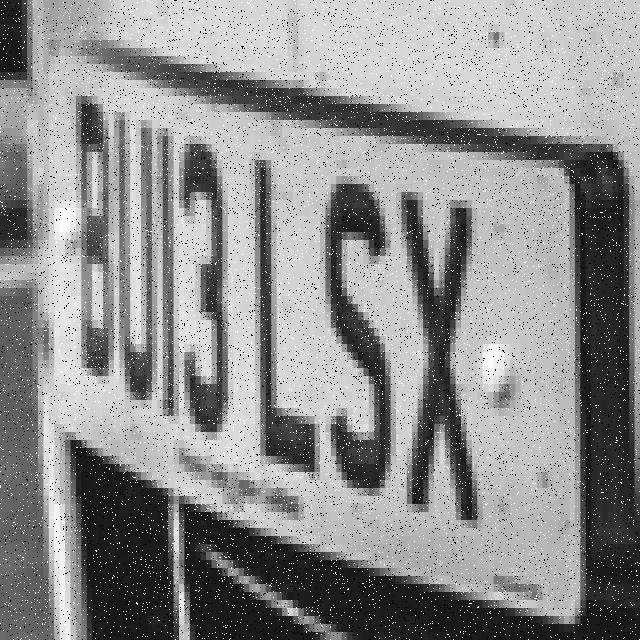licenseplate: (19, 22, 605, 630)
